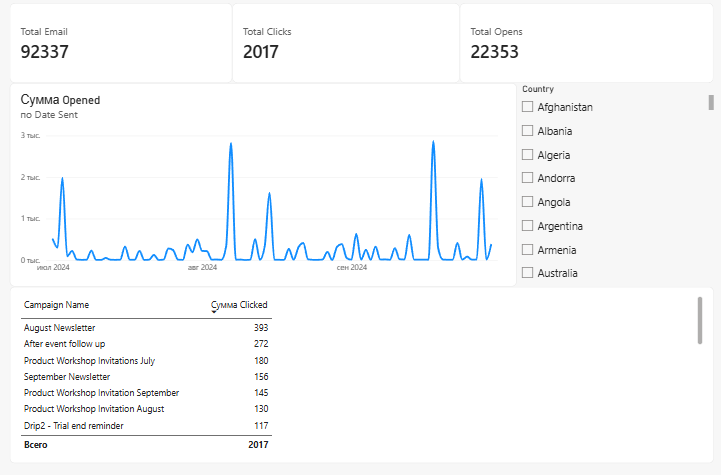

This screenshot's page, from the dashboard's own definition file:
{"tool":"powerbi","page":{"name":"Model validation","canvas":[1920,1080],"ordinal":0},"visuals":[{"type":"cardVisual","fields":{"Data":["fact_marketing_campaign.Total Email"]},"box":[182,312,356,128],"z":0},{"type":"tableEx","fields":{"Values":["dim_campaign.Campaign Name","Sum(fact_marketing_campaign.Clicked)"]},"box":[182,766,1126,282],"z":1000},{"type":"lineChart","fields":{"Category":["dim_date.Date Sent"],"Y":["Sum(fact_marketing_campaign.Opened)"]},"box":[182.9,440,811.4,325.7],"z":2000},{"type":"slicer","fields":{"Values":["dim_country.Country"]},"box":[994,440,314,326],"z":3000},{"type":"cardVisual","fields":{"Data":["fact_marketing_campaign.Total Clicks"]},"box":[538,312,364,128],"z":4000},{"type":"cardVisual","fields":{"Data":["fact_marketing_campaign.Total Opens"]},"box":[902,312,406,128],"z":5000}]}

Visuals, with their boxes on the page's 1920x1080 design canvas (x1, y1, x2, y2). These are canvas units, not pixel positions in the 721x475 screenshot, which may show the page scaled, cropped or inside an application window:
cardVisual - fact_marketing_campaign.Total Email: 182:312:538:440
tableEx - dim_campaign.Campaign Name x Sum(fact_marketing_campaign.Clicked): 182:766:1308:1048
lineChart - dim_date.Date Sent x Sum(fact_marketing_campaign.Opened): 183:440:994:766
slicer - dim_country.Country: 994:440:1308:766
cardVisual - fact_marketing_campaign.Total Clicks: 538:312:902:440
cardVisual - fact_marketing_campaign.Total Opens: 902:312:1308:440
